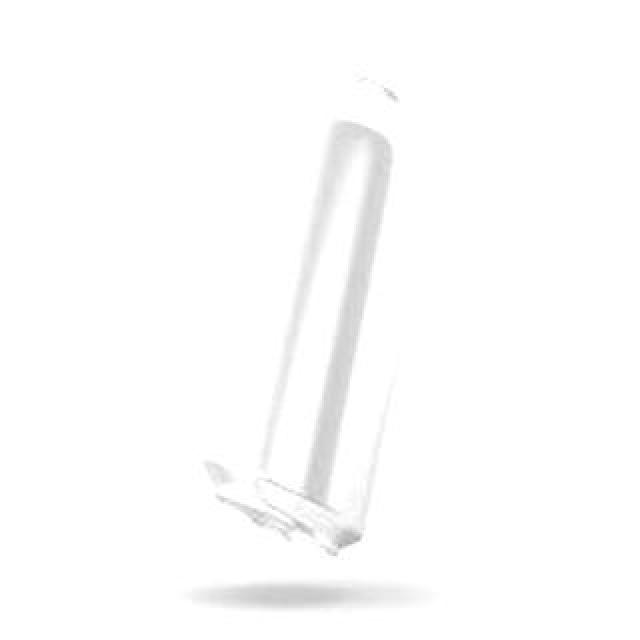Can: (194, 48, 448, 566)
